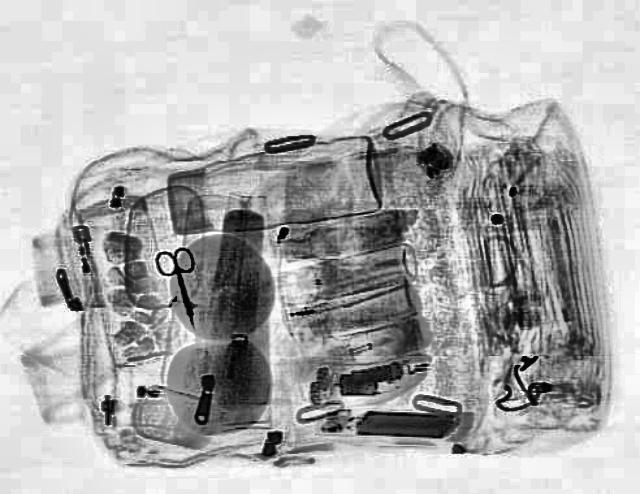Scissors: (154, 245, 210, 331)
